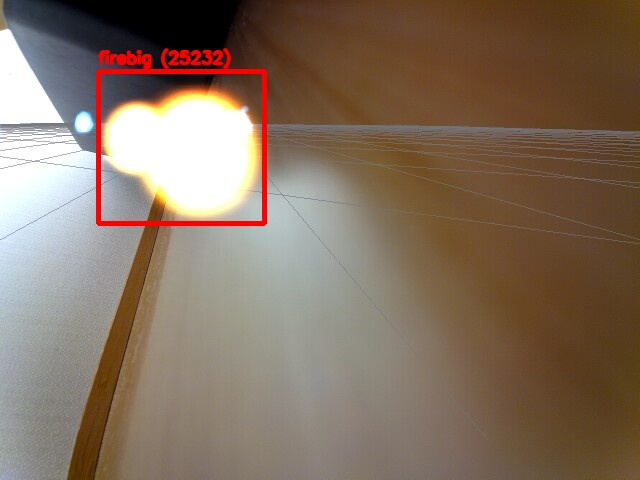firebig: (98, 71, 264, 223)
